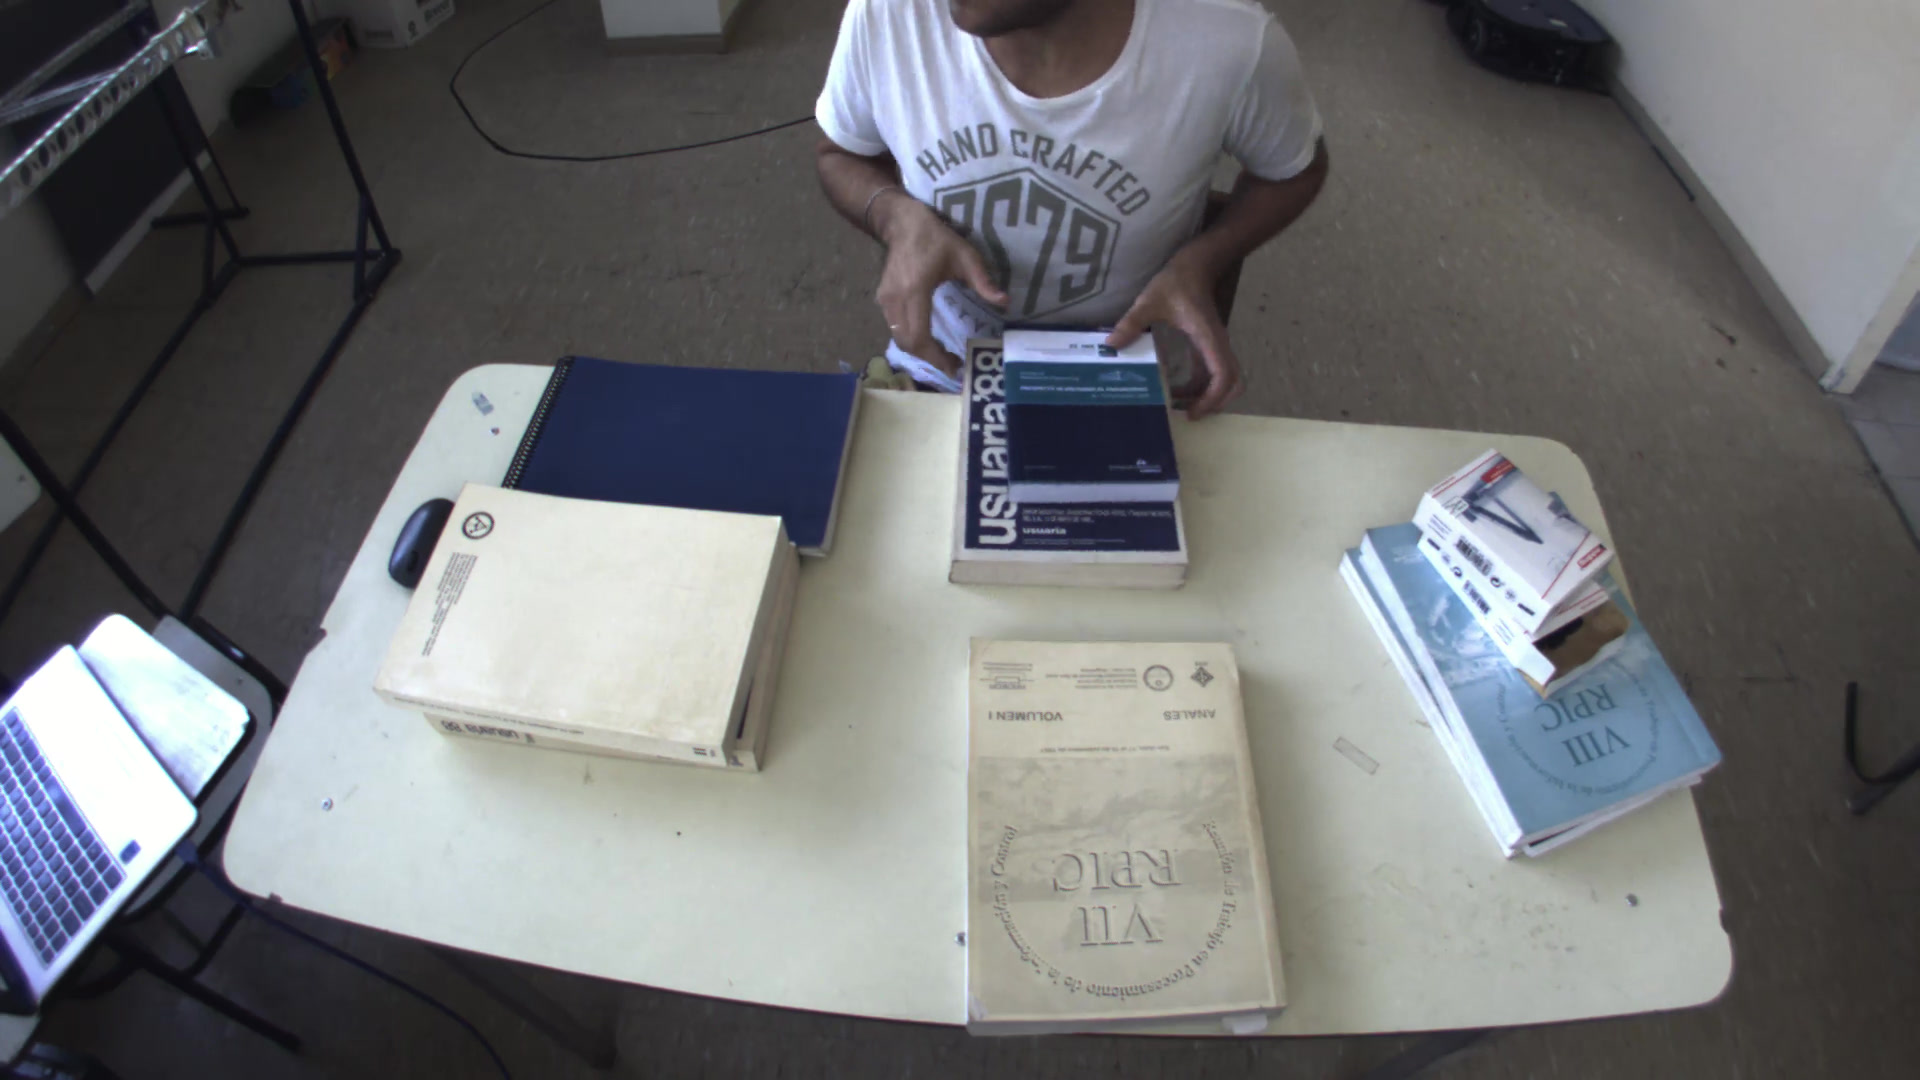hand: (822, 170, 1025, 349), (1105, 247, 1258, 411)
